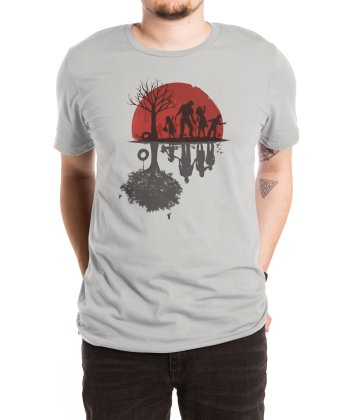design: (113, 77, 232, 222)
